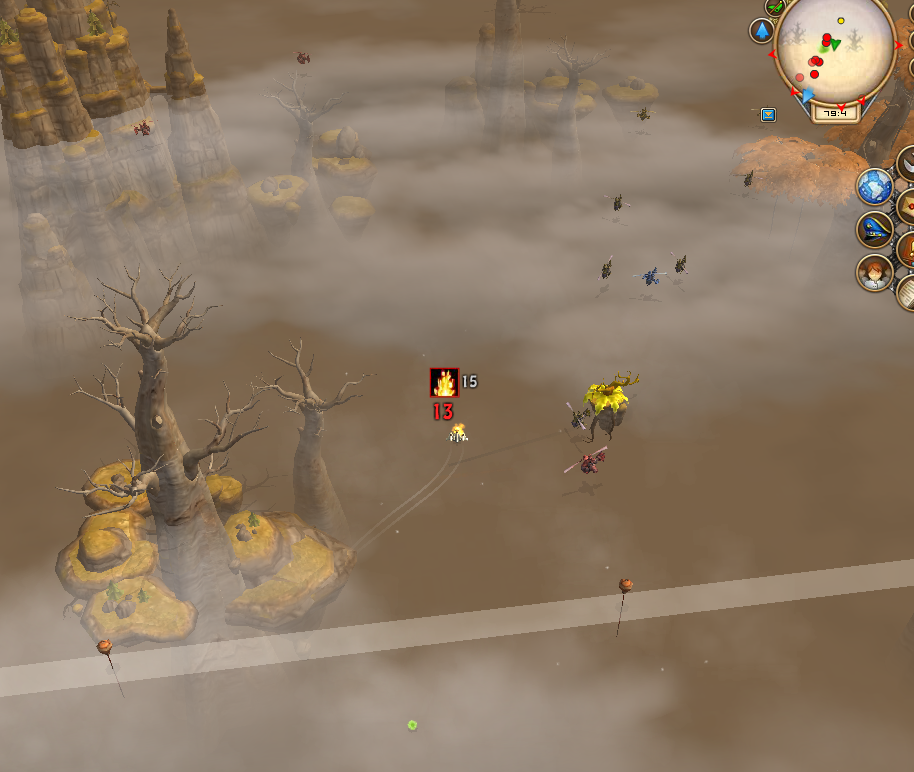dandelion-empty: (579, 370, 639, 438)
fluff: (402, 715, 421, 735)
